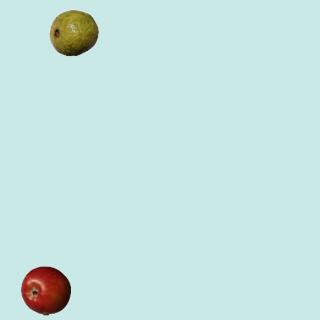Apple Braeburn: (20, 265, 70, 315)
Guava: (48, 7, 98, 57)
